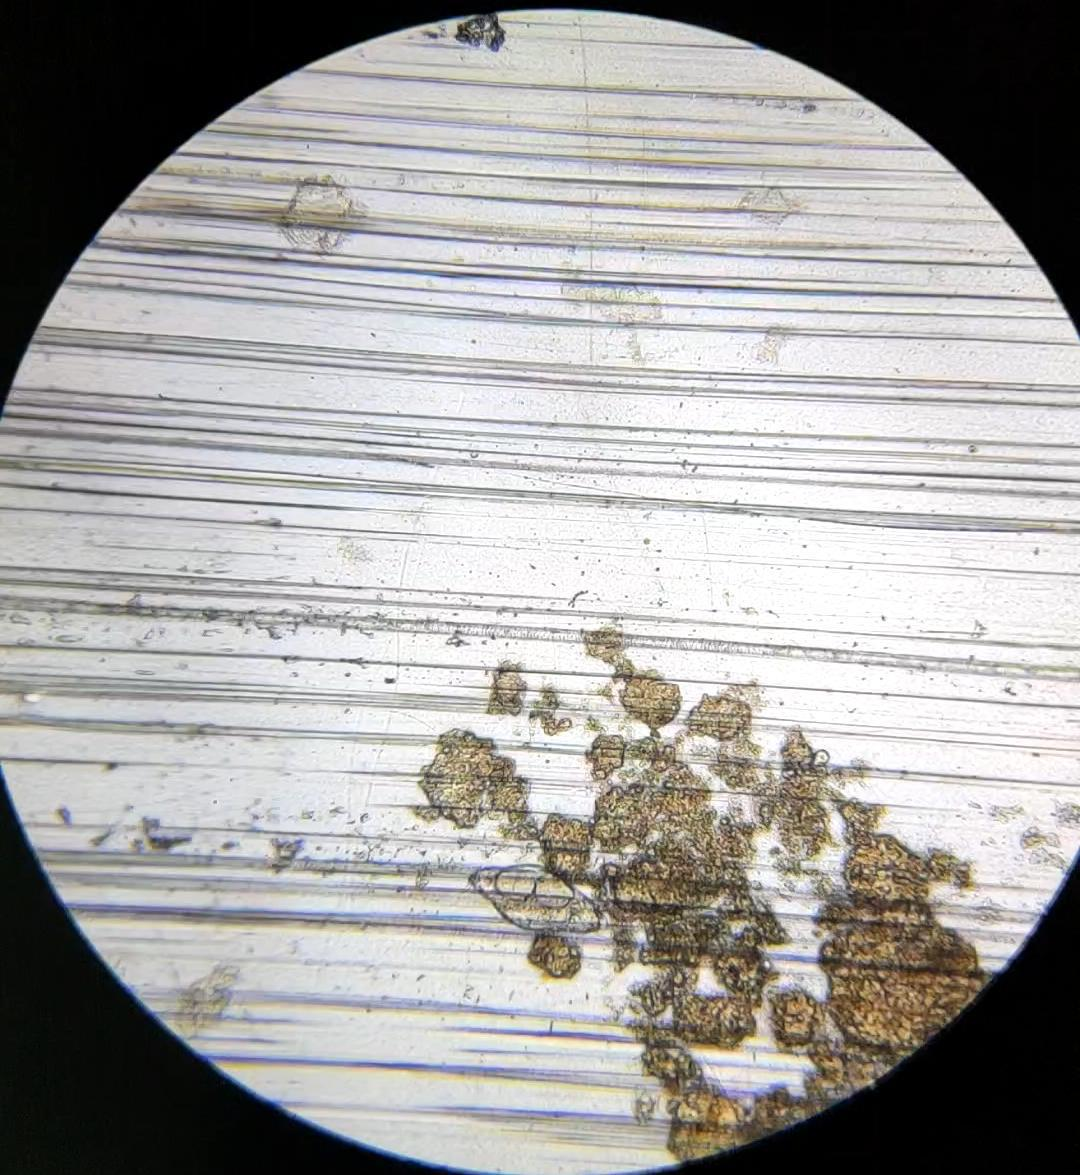Do: (466, 863, 602, 934)
